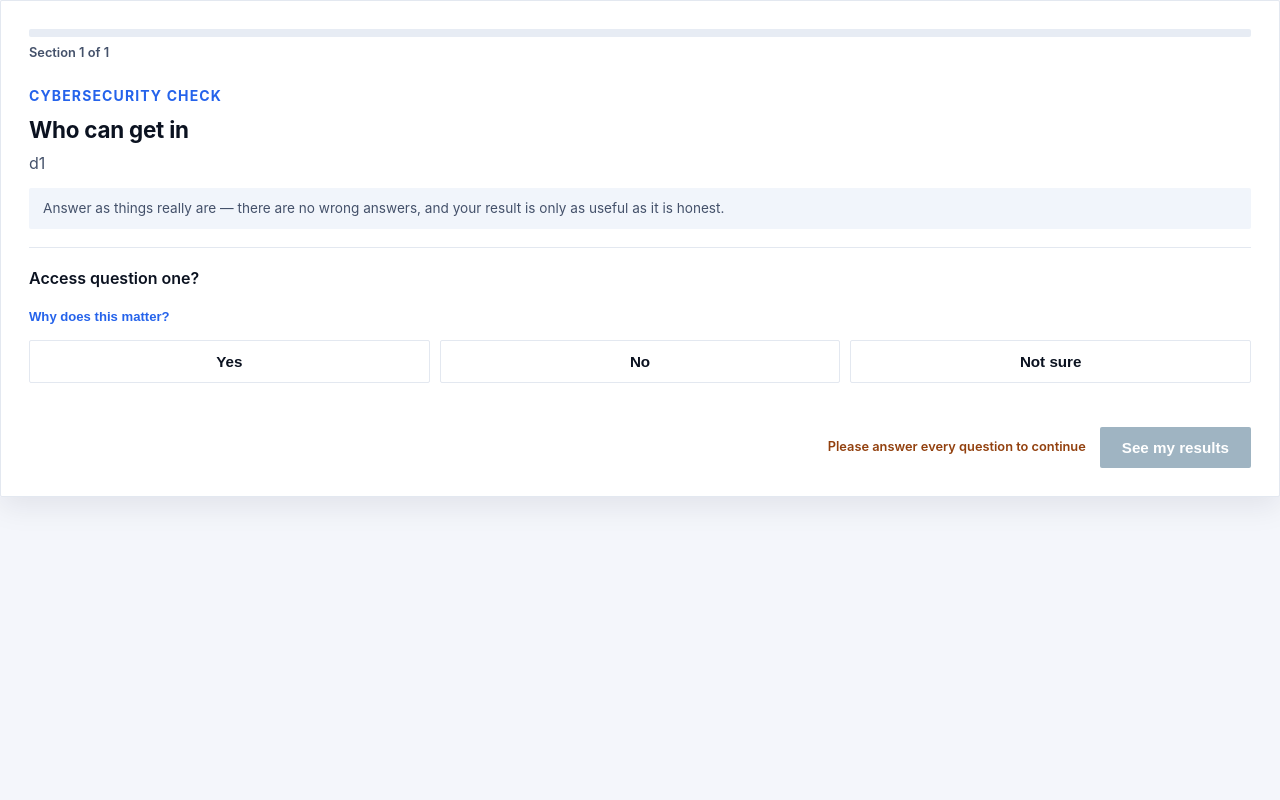
Test case: Wizard › exposes the help toggle's open/closed state to assistive tech
Click the button "Why does this matter?" at (99, 316), box [29, 309, 170, 324]
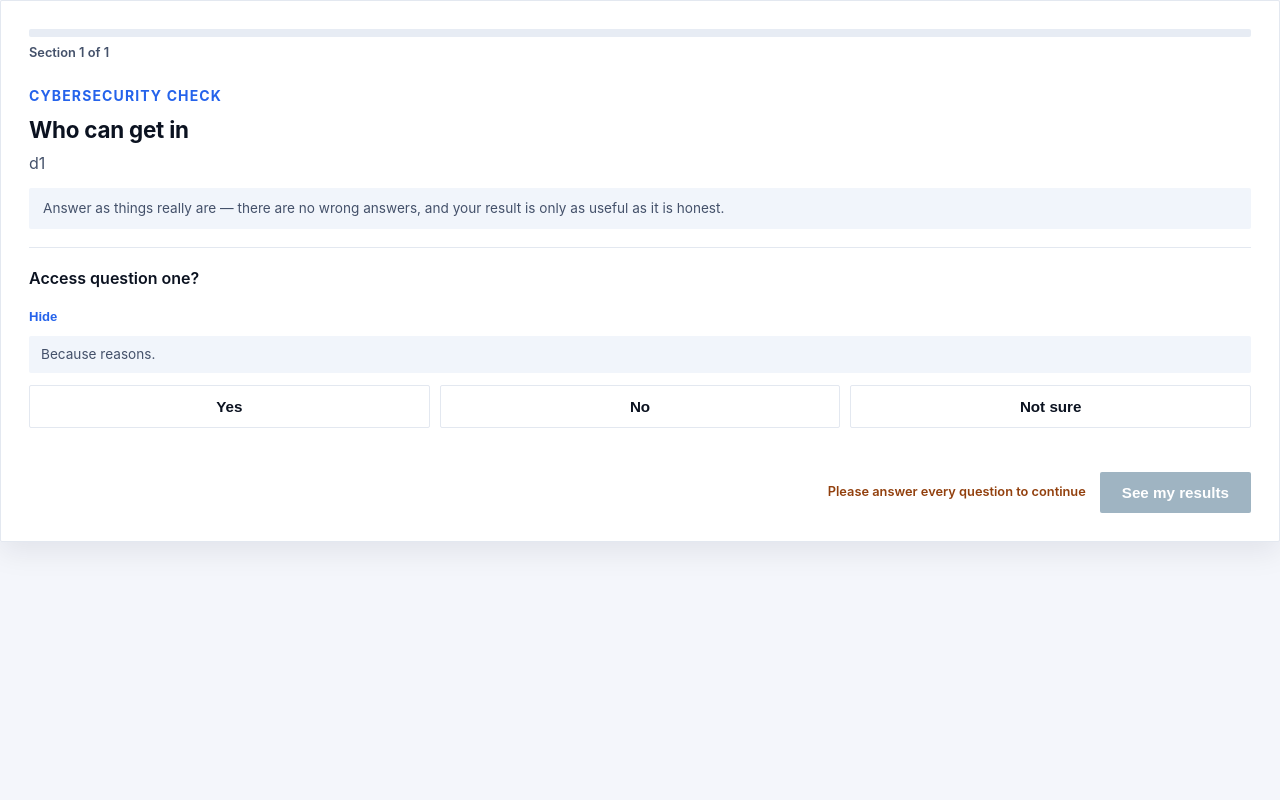
Result: the button named "why does this matter" is expanded at [29, 309, 57, 324]
